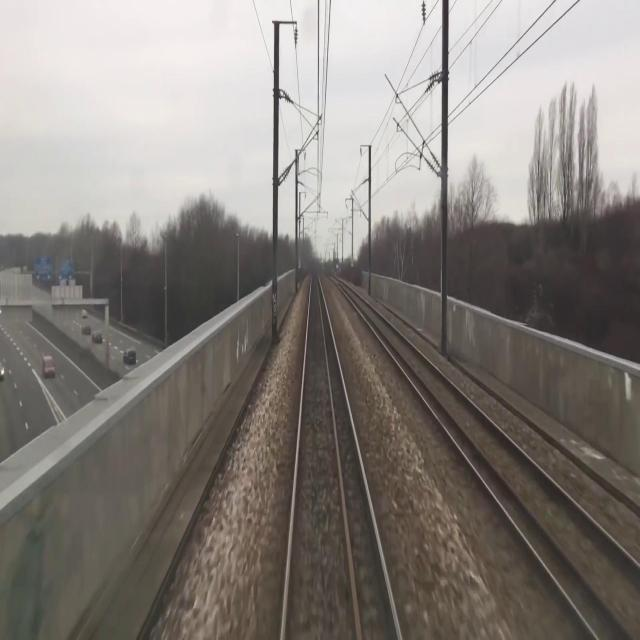rail-track: (327, 274, 640, 639), (284, 266, 397, 639)
